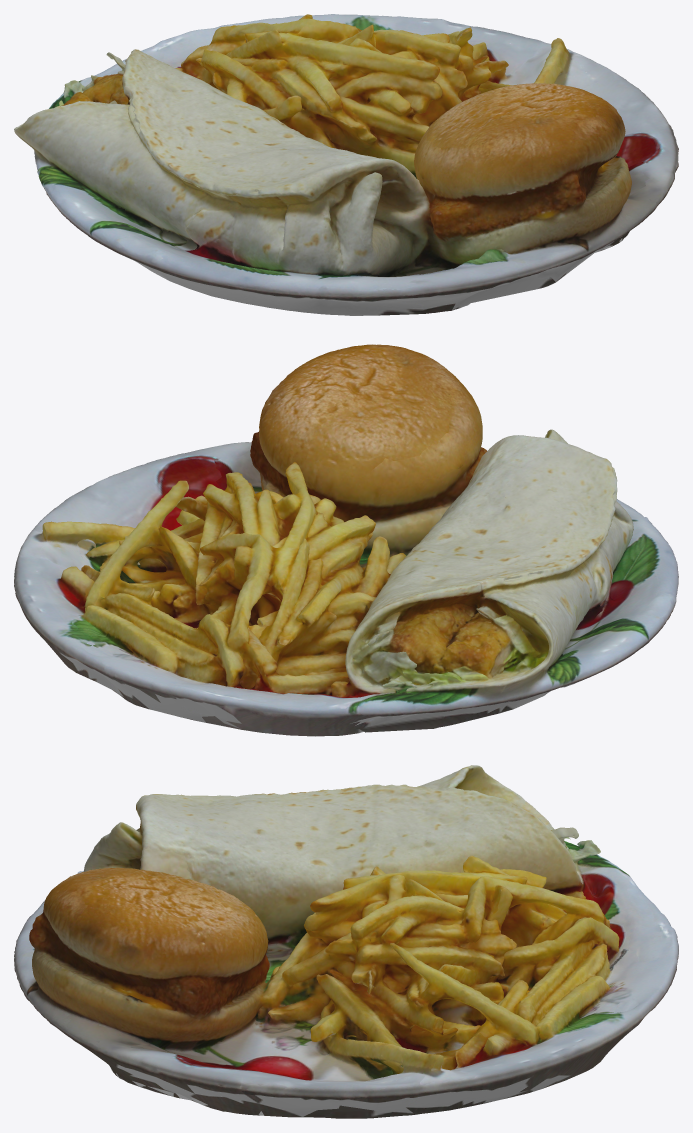
File: burger_wrap_fries.glb
The picture shows the model from 3 angles, top to bottom: view 1: azimuth 30°, elevation 25°; view 2: azimuth 150°, elevation 25°; view 3: azimuth 270°, elevation 25°; orthographic projection. The views are drawn at different scales.
Parts seen in each view (by area): view 1: Object_3, Object_2; view 2: Object_3, Object_2; view 3: Object_3, Object_2.
Part boxes in pixels (bbox=[...]): Object_3: bbox=[14, 14, 678, 301]; Object_2: bbox=[14, 18, 678, 315]; Object_3: bbox=[14, 345, 678, 736]; Object_2: bbox=[20, 344, 678, 736]; Object_3: bbox=[14, 765, 678, 1118]; Object_2: bbox=[14, 765, 678, 1117].
Size of the model in its own units: 29.89 by 7.84 by 29.93.
Materials: 1 (1 with a texture image).
